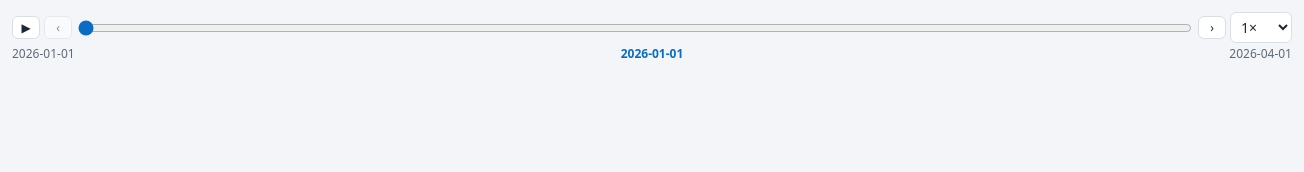
Test: TimeSlider › trascinando aggiorna l'etichetta subito e applica la data solo a trascinamento fermo
This screenshot has width=1304, height=172.
Set the slider named "Data" to "2": [818, 28] box [78,20,1192,36]
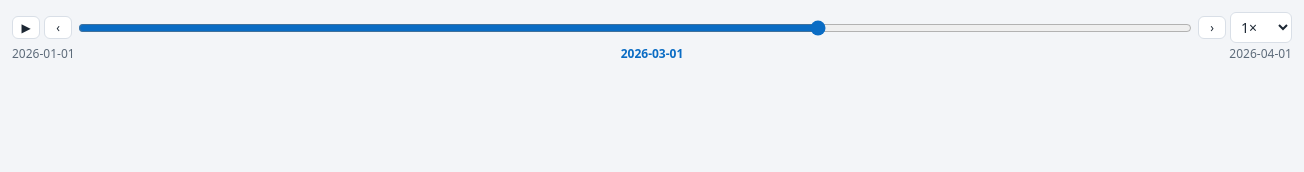
Set the slider named "Data" to "3": [1184, 28] box [78,20,1192,36]
Wait 250 ms
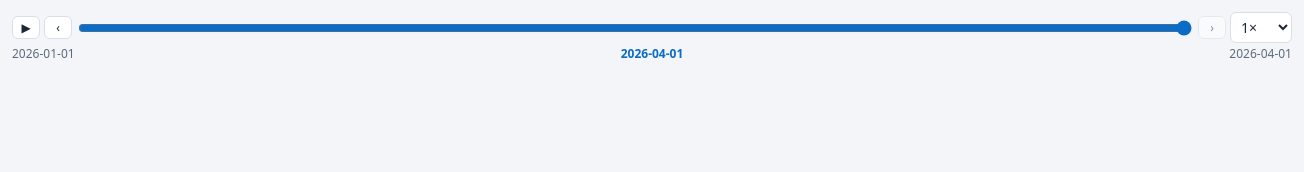
Expected: the 1st text "2026-04-01" is shown, [621,45,683,62]
